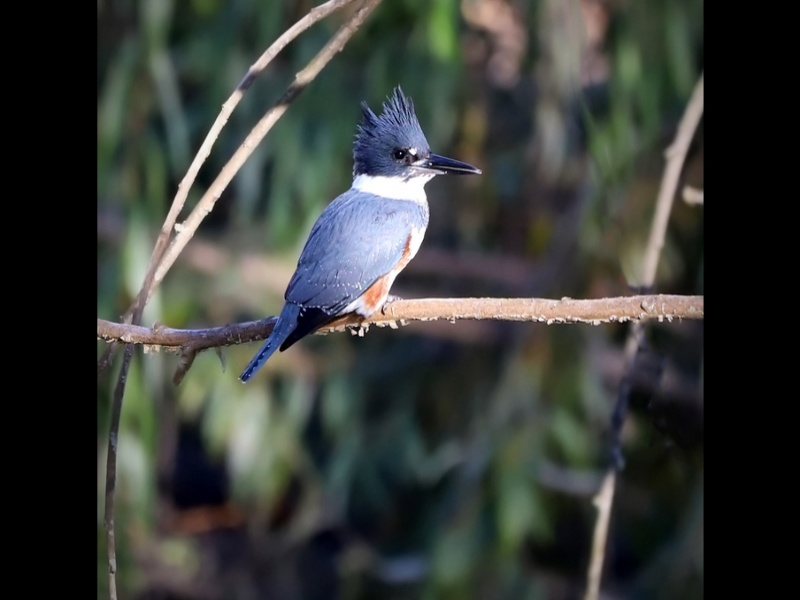kingfisher: (236, 82, 487, 389)
